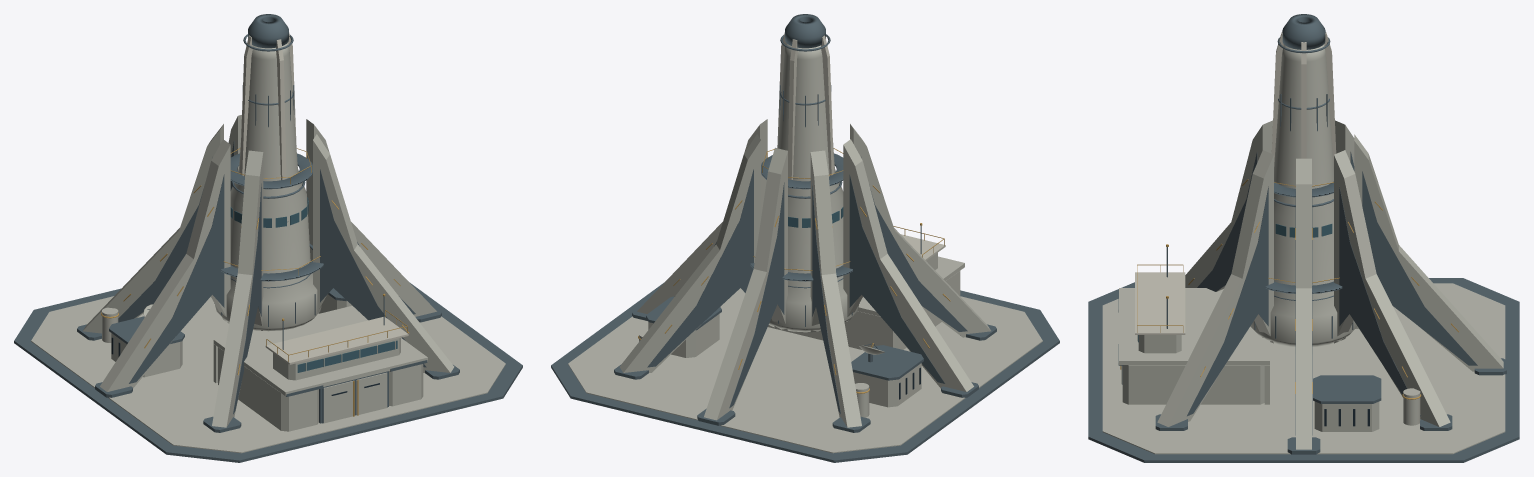
3 views of the same model, side by side, from view 1: azimuth 30°, elevation 25°; view 2: azimuth 150°, elevation 25°; view 3: azimuth 270°, elevation 25° (orthographic). The views are drawn at different scales.
Parts seen in each view (by area): view 1: SURFACE_STRUCTURE, HANGAR_DOOR_R_SURFACE, HANGAR_DOOR_L_SURFACE; view 2: SURFACE_STRUCTURE; view 3: SURFACE_STRUCTURE.
Part boxes in pixels (x1,y1,x2,y2): SURFACE_STRUCTURE: [14, 14, 522, 462]; HANGAR_DOOR_R_SURFACE: [355, 371, 387, 415]; HANGAR_DOOR_L_SURFACE: [322, 379, 354, 423]; SURFACE_STRUCTURE: [551, 14, 1059, 462]; SURFACE_STRUCTURE: [1088, 14, 1519, 462].
Bounding box in the file's own units: 60 × 54 × 60.
